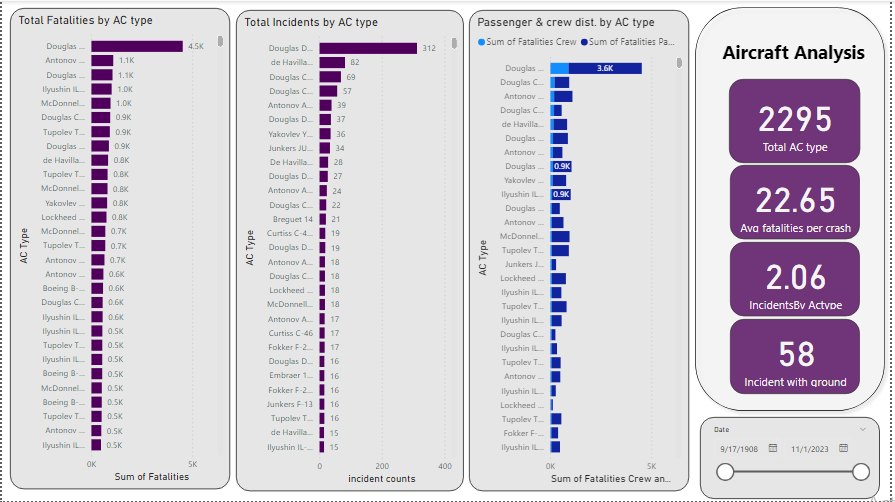

Layout of this report page (visuals, bound fields, positions):
{"tool":"powerbi","page":{"name":"Aircraft Analysis","canvas":[1280,720],"ordinal":2},"visuals":[{"type":"card","fields":{"Values":["Measure.Avg fatalities per crash"]},"box":[1048.3,236.2,187.2,106.6],"z":0},{"type":"card","fields":{"Values":["Measure.IncidentsBy Actype"]},"box":[1048.3,347,187.2,106.6],"z":1000},{"type":"card","fields":{"Values":["Count(Airplane Crashes Analysis.AC Type)"]},"box":[1046.9,112.3,188.6,121],"z":2000},{"type":"card","fields":{"Values":["Measure.Incident with ground"]},"box":[1048.3,457.9,187.2,108],"z":3000},{"type":"slicer","fields":{"Values":["Airplane Crashes Analysis.Date"]},"box":[1005.1,599,259.2,118.1],"z":4000},{"type":"shape","box":[989.3,0,290.9,599],"z":5000},{"type":"textbox","box":[1015.2,49,249.1,49],"z":6000},{"type":"barChart","title":"Total Fatalities by AC type","fields":{"Category":["Airplane Crashes Analysis.AC Type"],"Y":["Sum(Airplane Crashes Analysis.Fatalities)"]},"box":[11.5,10.1,316.8,692.6],"z":7000},{"type":"barChart","title":"Total Incidents by AC type","fields":{"Category":["Airplane Crashes Analysis.AC Type"],"Y":["Measure.incident counts"]},"box":[337,13,328.3,692.6],"z":8000},{"type":"barChart","title":"Passenger &  crew dist. by AC type","fields":{"Category":["Airplane Crashes Analysis.AC Type"],"Y":["Sum(Airplane Crashes Analysis.Fatalities Crew)","Sum(Airplane Crashes Analysis.Fatalities Passangers)"]},"box":[672.5,13,316.8,692.6],"z":9000}]}

Visuals, with their boxes in screenshot pixels (x1, y1, x2, y2), scaled from the page's 1280x720 canvas onto the 895x502 screenshot:
card - Measure.Avg fatalities per crash: rect(733, 165, 864, 239)
card - Measure.IncidentsBy Actype: rect(733, 242, 864, 316)
card - Count(Airplane Crashes Analysis.AC Type): rect(732, 78, 864, 163)
card - Measure.Incident with ground: rect(733, 319, 864, 395)
slicer - Airplane Crashes Analysis.Date: rect(703, 418, 884, 500)
shape: rect(692, 0, 894, 418)
textbox: rect(710, 34, 884, 68)
"Total Fatalities by AC type" barChart: rect(8, 7, 230, 490)
"Total Incidents by AC type" barChart: rect(236, 9, 465, 492)
"Passenger &  crew dist. by AC type" barChart: rect(470, 9, 692, 492)
